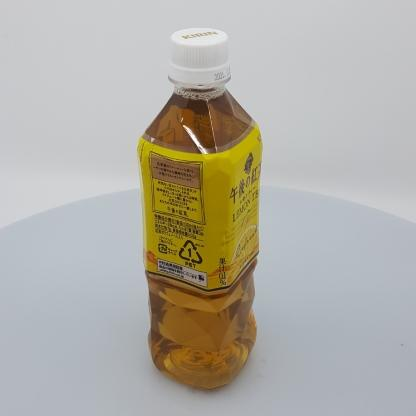--------------500ml: (136, 28, 263, 390)
